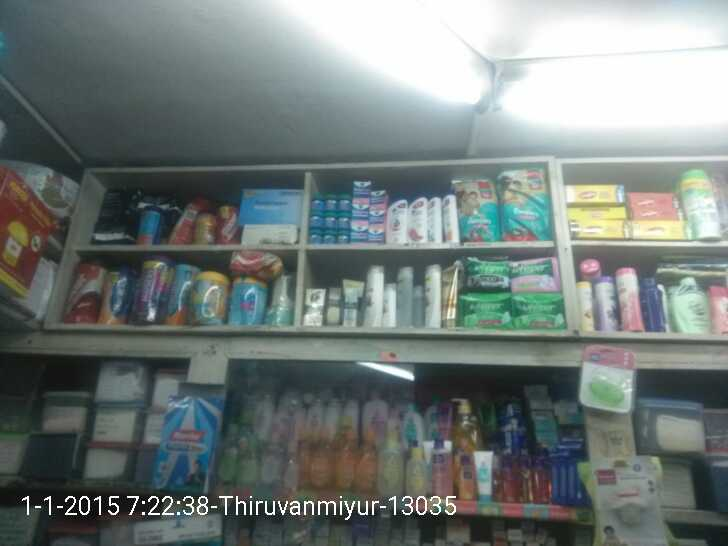vicks: (311, 176, 385, 243)
